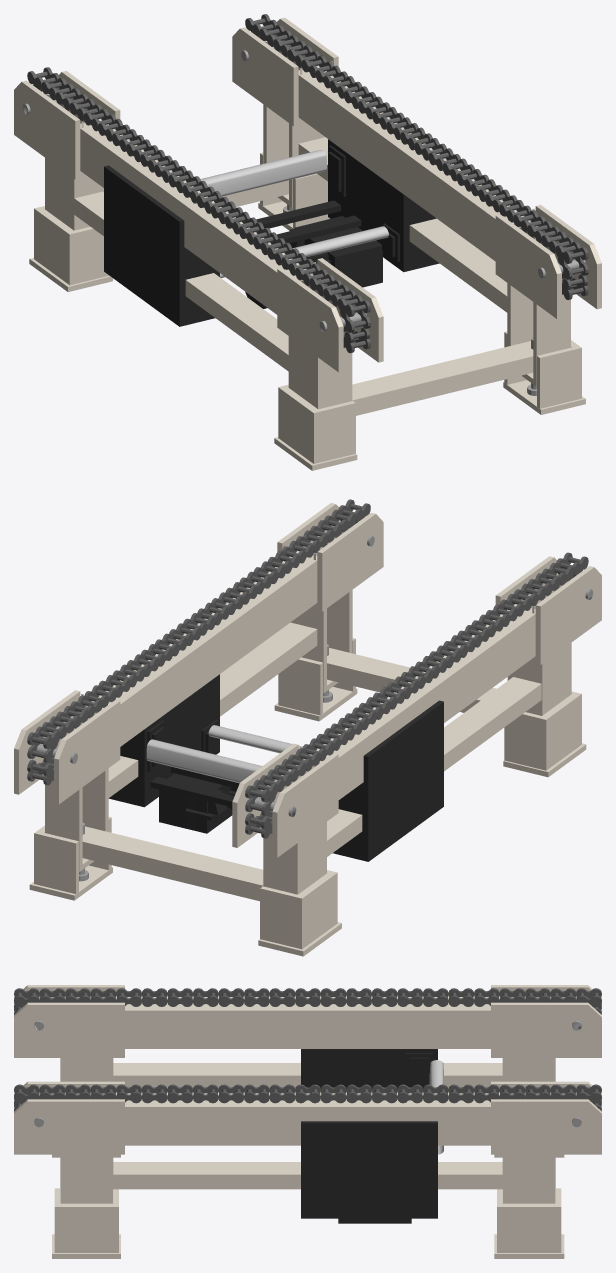
File: continuous-chain-w1314-l2699.glb
3 renders of one model, top to bottom at view 1: azimuth 30°, elevation 25°; view 2: azimuth 150°, elevation 25°; view 3: azimuth 270°, elevation 25°, orthographic. The views are drawn at different scales.
Visible parts, largest first — view 1: steel_frame, drive_motor, bearing_chain_links, drive_shafts, chain_end_returns, frame_fasteners, return_chain_links; view 2: steel_frame, drive_motor, bearing_chain_links, drive_shafts, chain_end_returns, frame_fasteners, return_chain_links; view 3: steel_frame, bearing_chain_links, drive_motor, drive_shafts.
Boxes of the visible parts, x1,y1,x2,y2 form: steel_frame: (14, 17, 601, 470); drive_motor: (104, 139, 439, 326); bearing_chain_links: (27, 14, 588, 316); drive_shafts: (200, 149, 388, 277); chain_end_returns: (33, 27, 588, 347); frame_fasteners: (22, 40, 585, 395); return_chain_links: (343, 273, 588, 353); steel_frame: (14, 503, 601, 956); drive_motor: (109, 674, 443, 861); bearing_chain_links: (27, 499, 588, 802); drive_shafts: (146, 725, 302, 782); chain_end_returns: (27, 515, 582, 833); frame_fasteners: (31, 526, 593, 881); return_chain_links: (27, 758, 272, 838); steel_frame: (14, 985, 601, 1258); bearing_chain_links: (14, 988, 601, 1103); drive_motor: (301, 1049, 437, 1223); drive_shafts: (429, 1060, 443, 1154).
Size of the model in its own units: 1.31 by 0.8 by 2.7.
